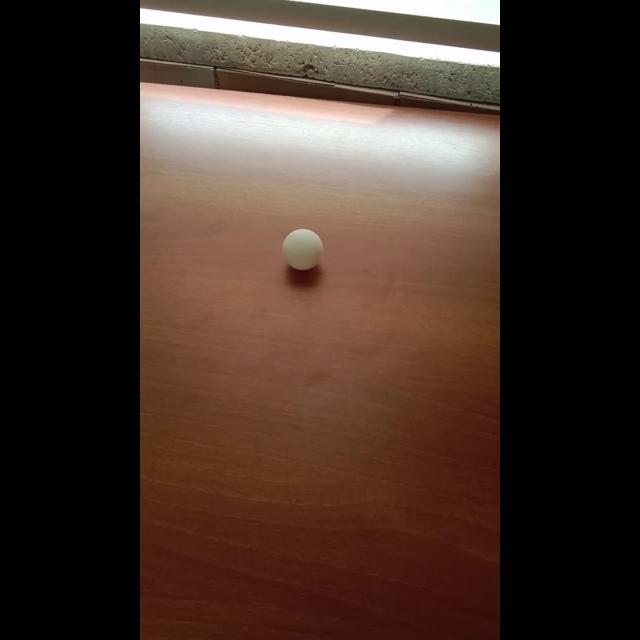white ball: (281, 228, 323, 270)
